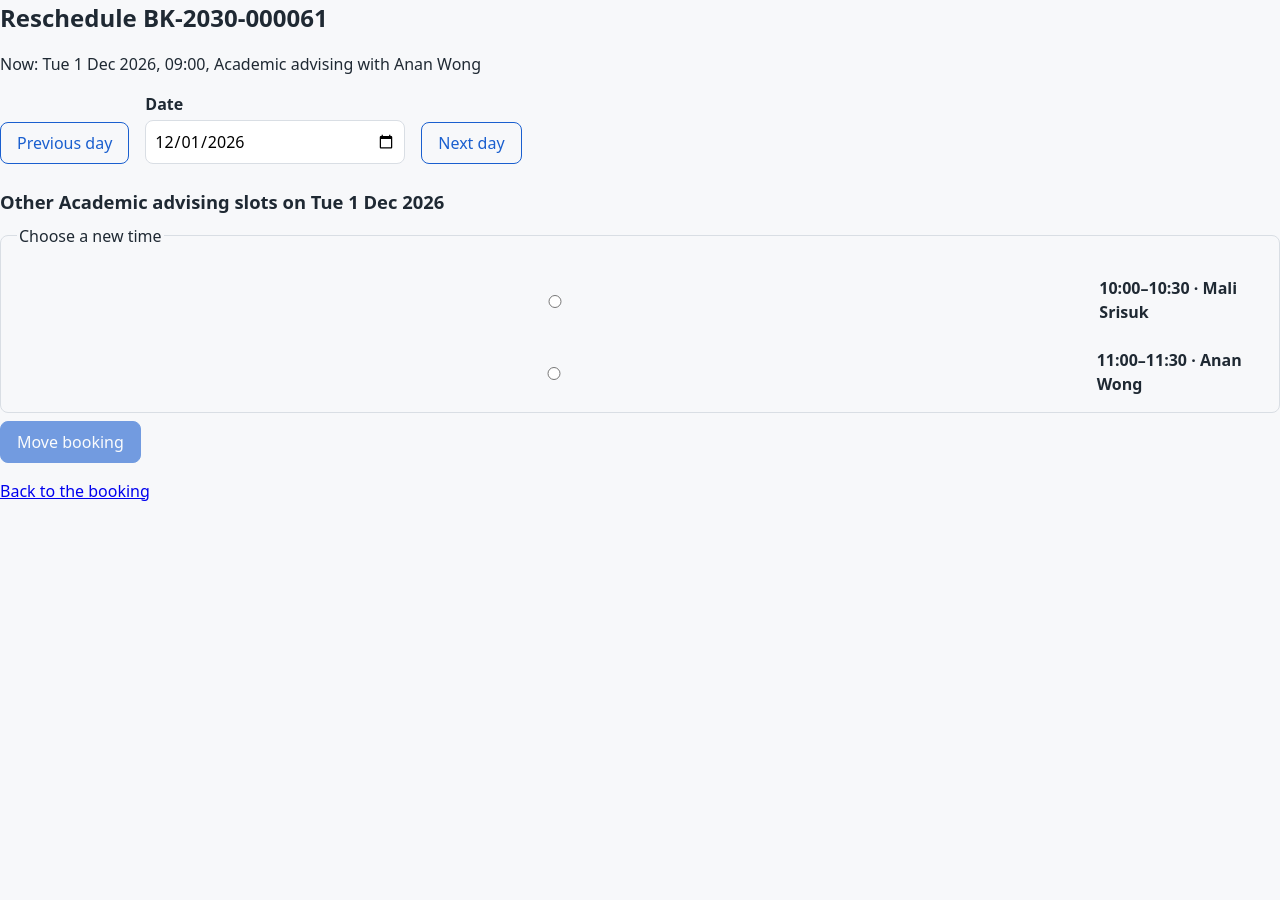
Test: ReschedulePage (F-08) › UI-10: the current slot is excluded; Move booking is disabled until a choice; a 409 shows in a callout and the list is refreshed
Expected: the button "Move booking" is disabled, [0,421,141,463]
Click the radio button labelled "10:00–10:30 · Mali Srisuk": [555, 301] box [22,295,1088,308]
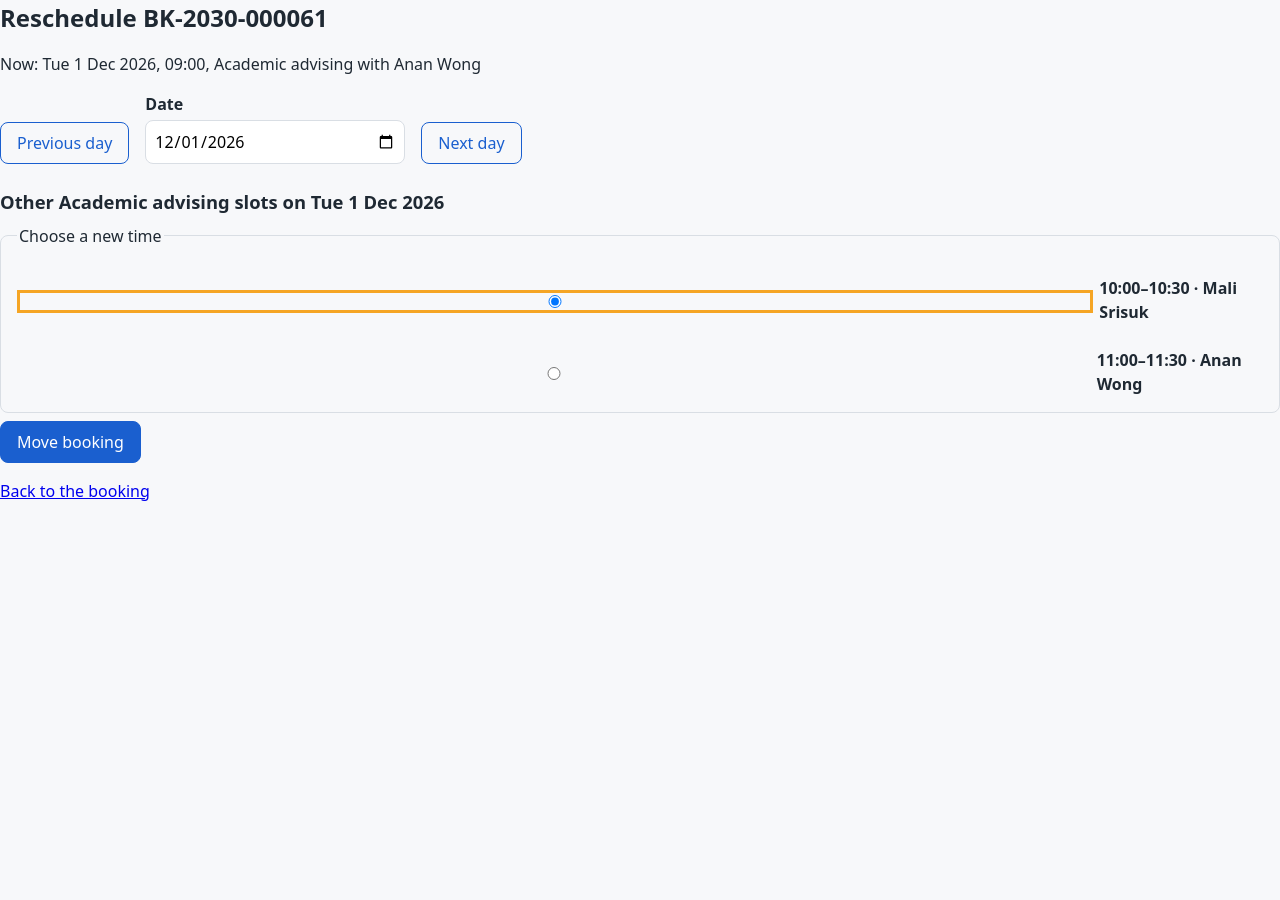
Expected: the button "Move booking" is enabled
Click the button "Move booking": [70, 442] box [0,421,141,463]
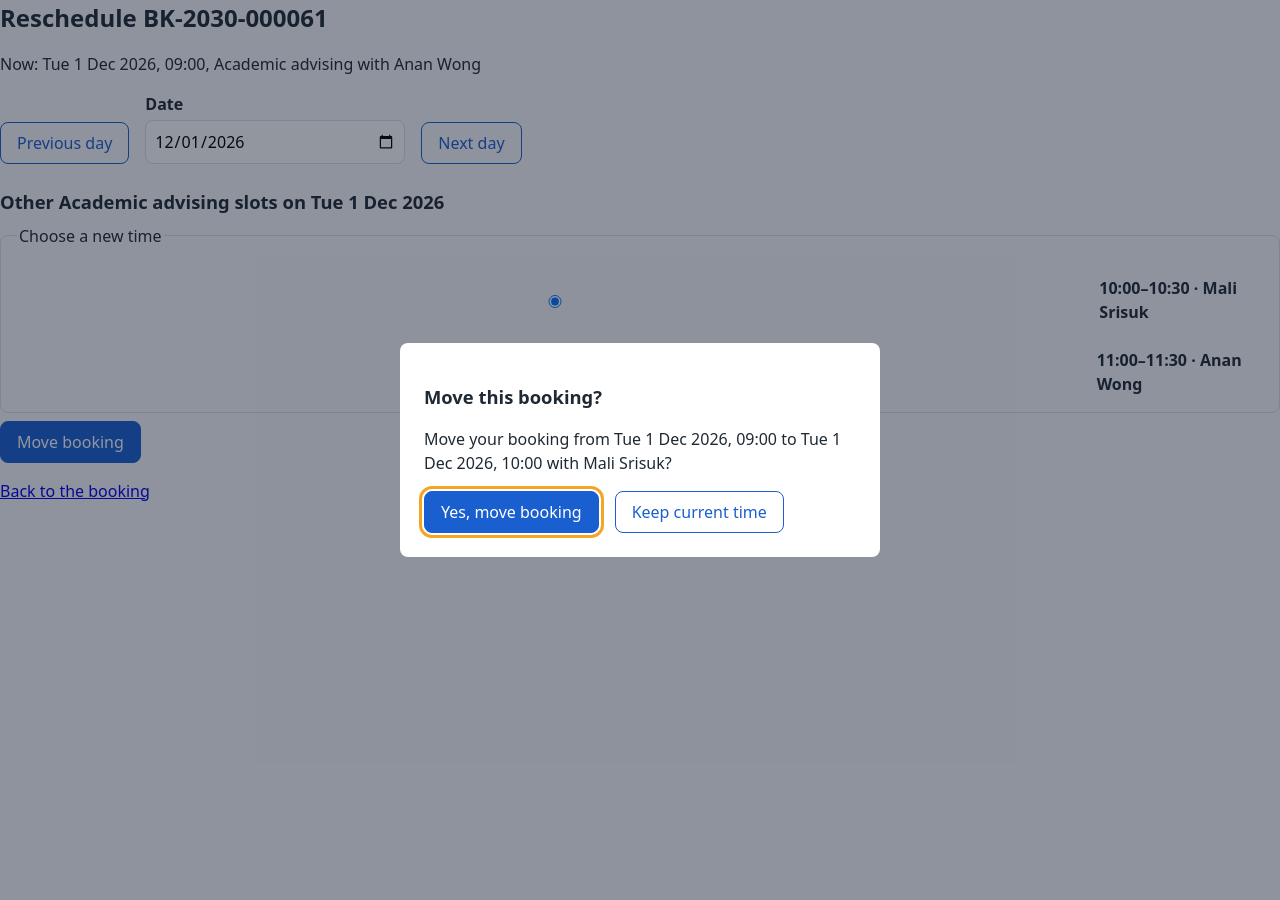
Expected: the dialog "Move this booking?" shows "with Mali Srisuk?", [400,343,880,557]
Click the button "Yes, move booking": [511, 512] box [424,491,599,533]
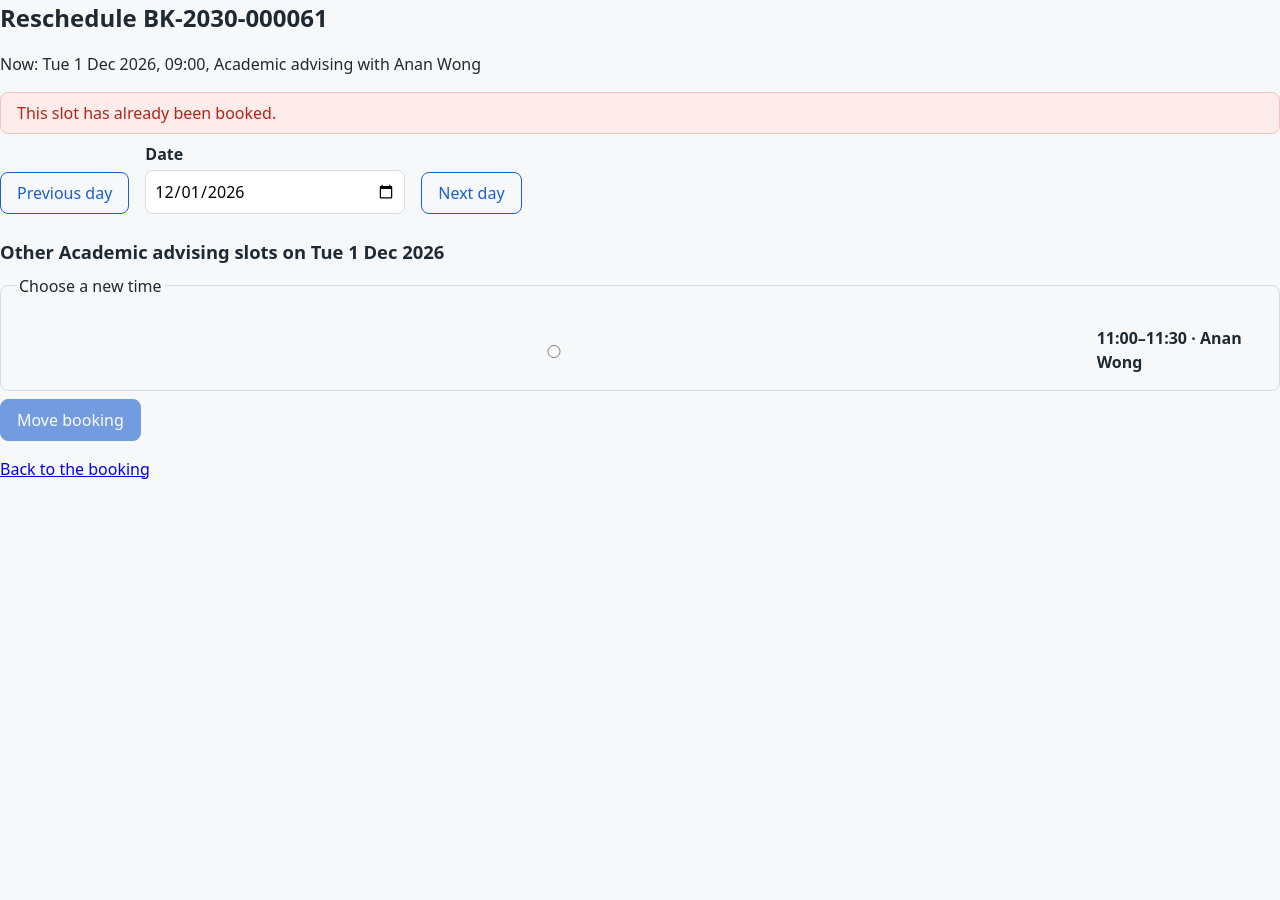
Expected: the message reads "This slot has already been booked.", [17,102,276,124]
Expected: the label "10:00–10:30 · Mali Srisuk" is gone
Expected: the button "Move booking" is disabled, [0,399,141,441]
